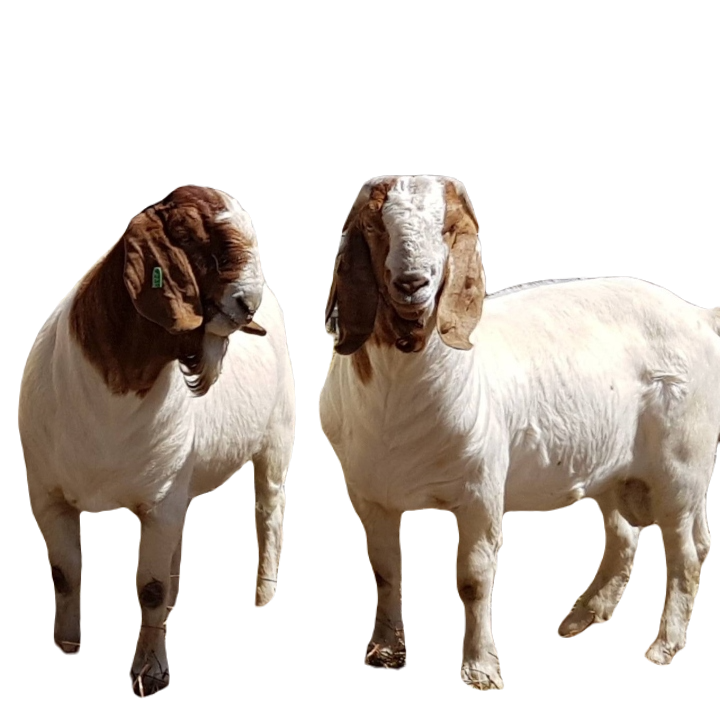Goat: (314, 165, 719, 692), (9, 182, 294, 695)
